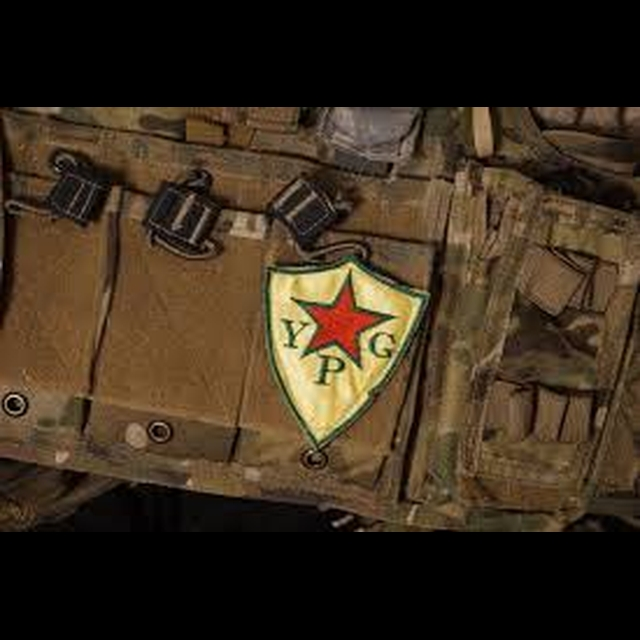YPG: (283, 275, 389, 387)
